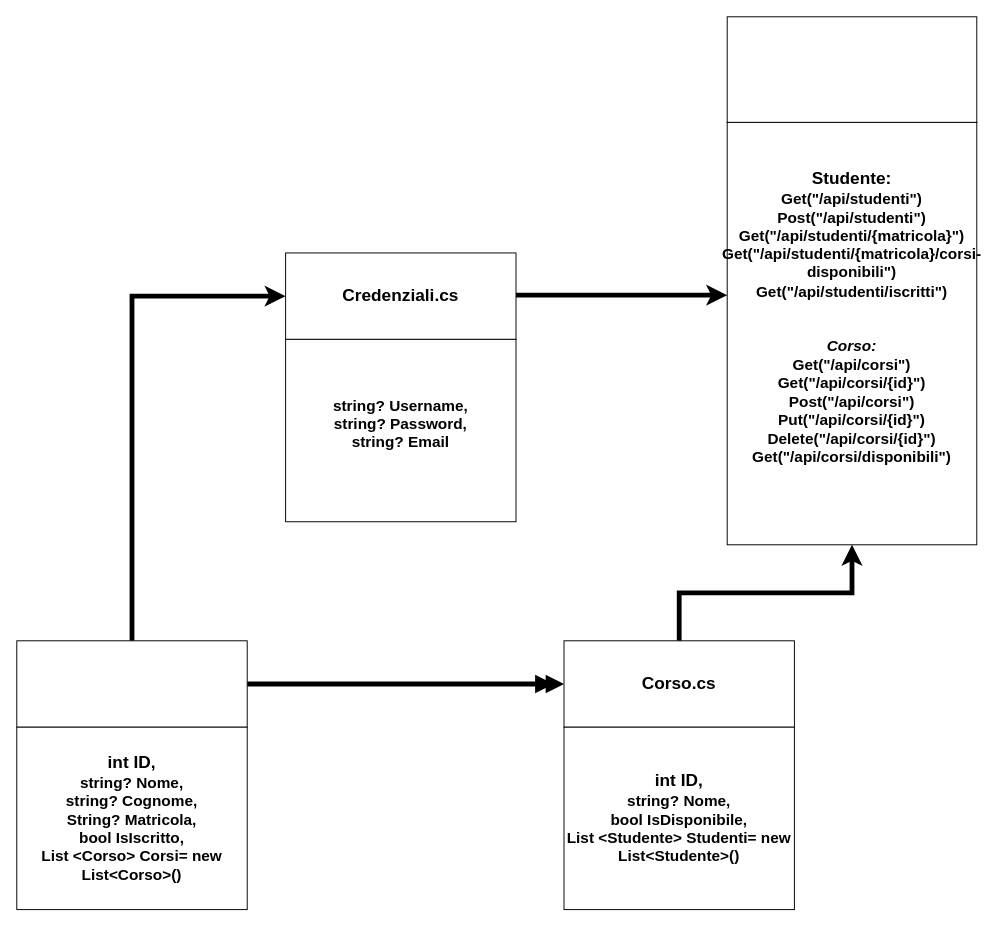
The diagram is 998 pixels wide and 926 high, and some of its shapes have lost their labels. The centre of each missing label's shape, as x and y in pixels:
Program.cs: the point at 851,69
Studente.cs: the point at 131,683
